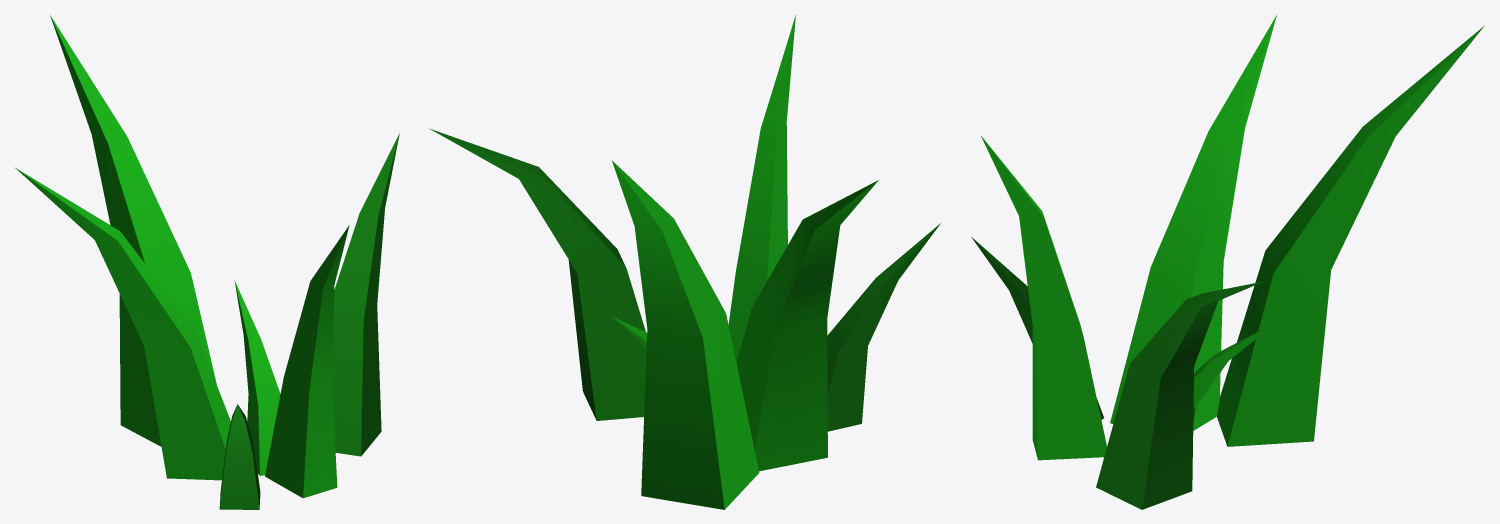
The model's file is Grass#2.FBX.
3 renders of one model, left to right at view 1: azimuth 30°, elevation 25°; view 2: azimuth 150°, elevation 25°; view 3: azimuth 270°, elevation 25°, orthographic. The views are drawn at different scales.
Visible parts, largest first — view 1: Pyramid006; view 2: Pyramid006; view 3: Pyramid006.
Boxes of the visible parts, x1,y1,x2,y2 form: Pyramid006: (15,15,399,509); Pyramid006: (429,15,940,509); Pyramid006: (971,15,1484,509).
Size of the model in its own units: 14.79 by 13.49 by 15.56.
